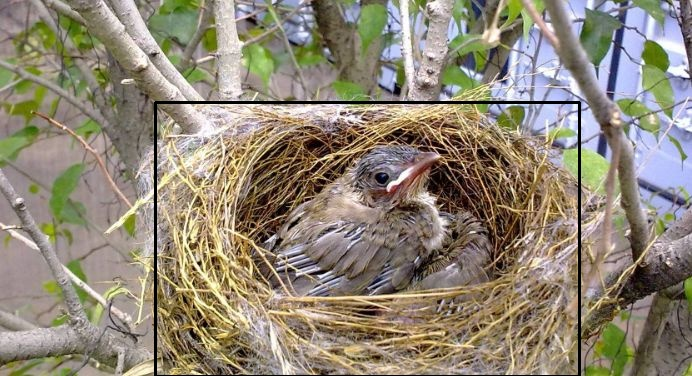bird-nest: (155, 102, 579, 376)
